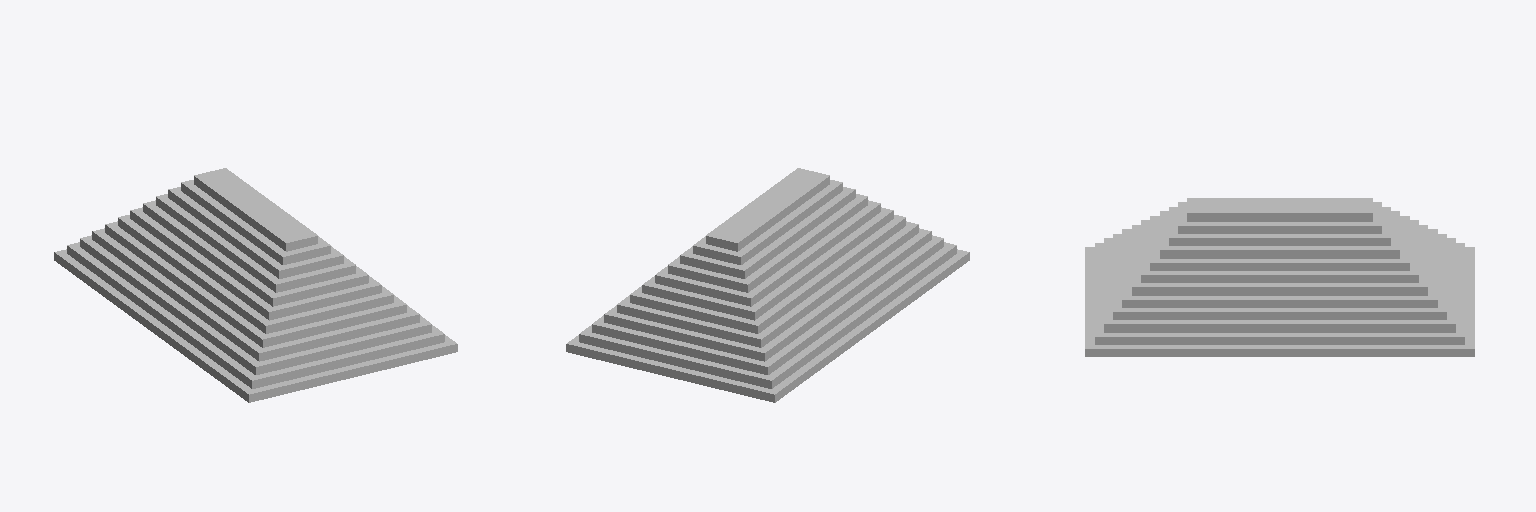
Rendered from Steel.obj.
3 views of the same model, side by side, from view 1: azimuth 30°, elevation 25°; view 2: azimuth 150°, elevation 25°; view 3: azimuth 270°, elevation 25° (orthographic).
Parts seen in each view (by area): view 1: object 1; view 2: object 1; view 3: object 1.
Part boxes in pixels (bbox=[...]): object 1: bbox=[54, 168, 457, 402]; object 1: bbox=[566, 168, 969, 402]; object 1: bbox=[1085, 198, 1474, 356].
Size of the model in its own units: 2.6 by 1.2 by 4.2.